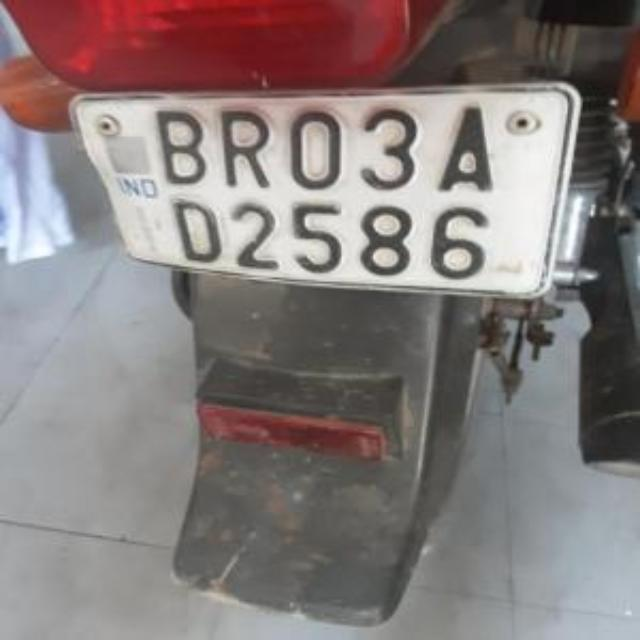License Plate: (83, 90, 570, 295)
